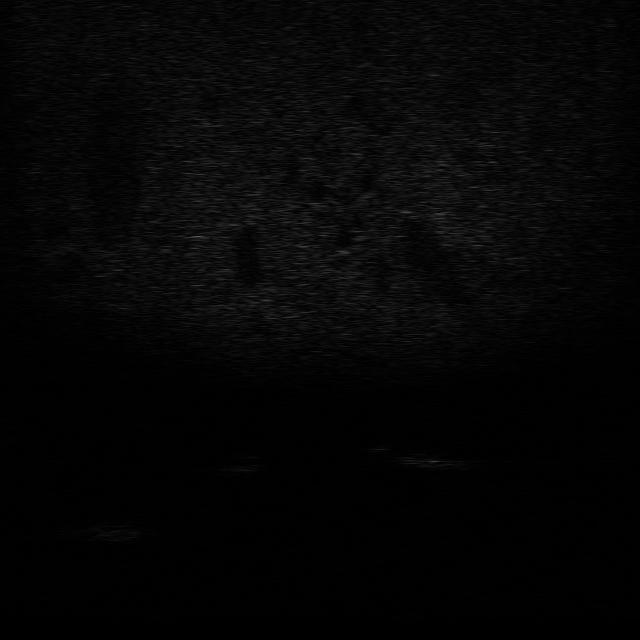ball: (220, 451, 265, 476)
circle cage: (60, 518, 150, 544)
human body: (362, 437, 478, 473)
